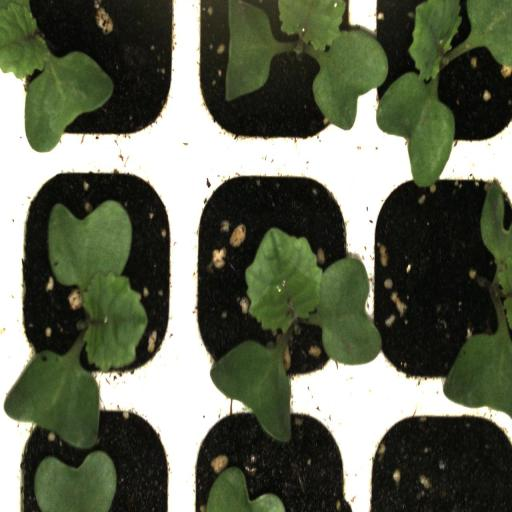seedling: (184, 159, 363, 402), (2, 157, 185, 390), (362, 157, 512, 404), (1, 0, 180, 155), (183, 1, 365, 152), (361, 0, 512, 155)
